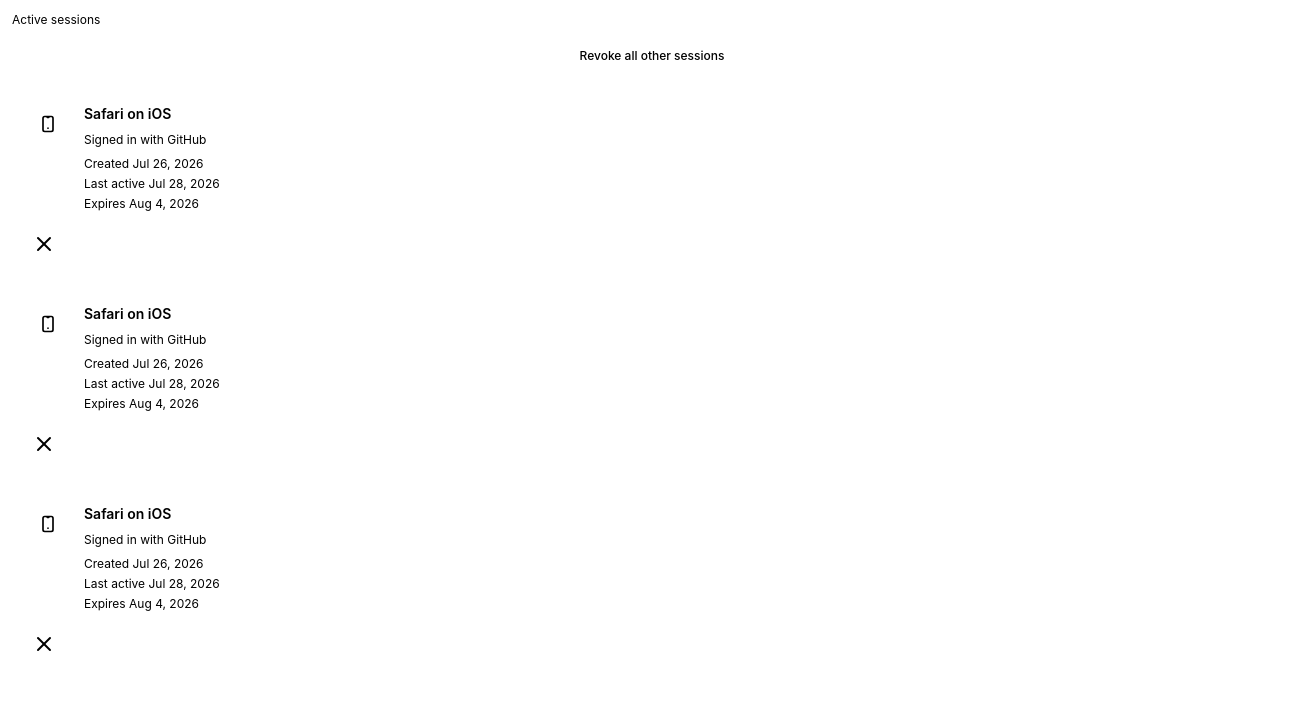
Test: reloads the first page after revoke-others when the current session was on a later page
What coordinates should you click on to do the following:
click the button "Revoke all other sessions"
I would click on:
 (652, 56)
Its box is top-left (12, 40), bottom-right (1292, 72).
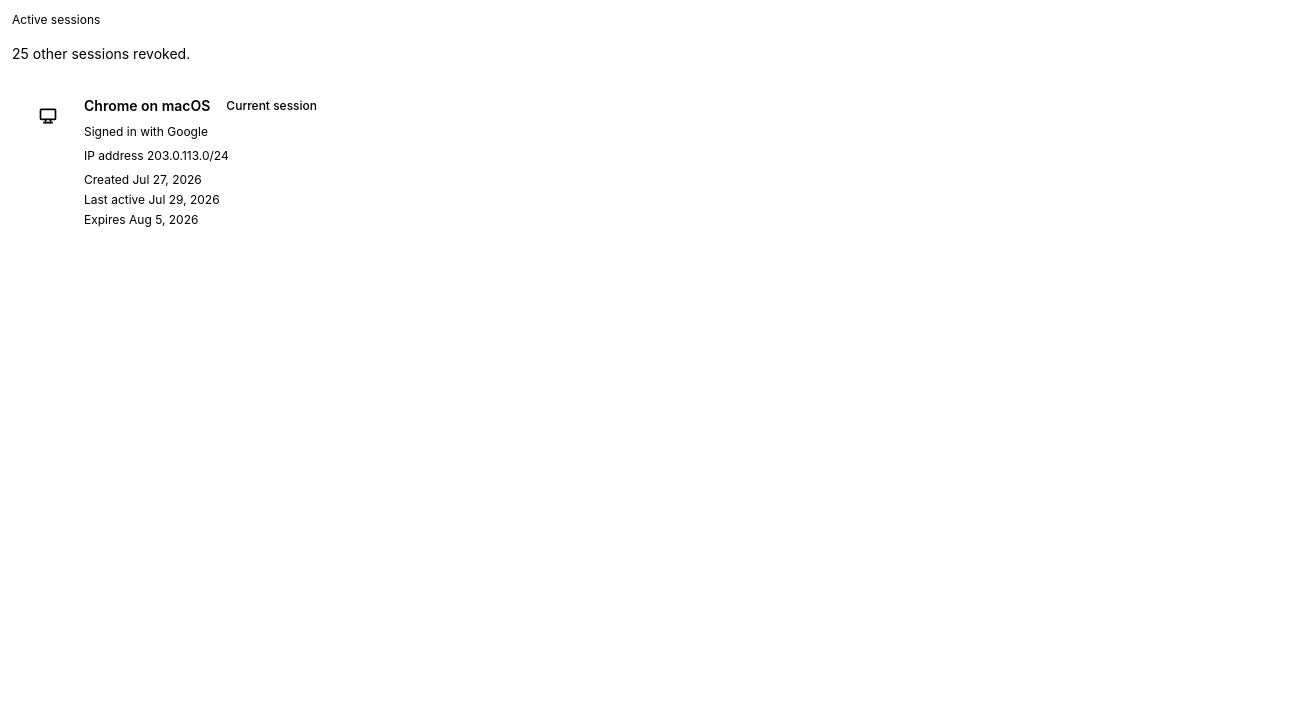
Check: the element named "Chrome on macOS, Current session" is shown, box top-left (38, 97), bottom-right (317, 227)
